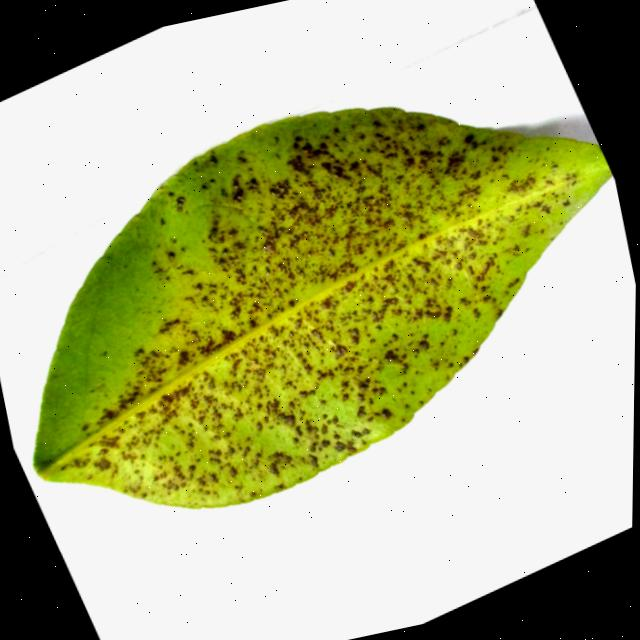melanose: (34, 108, 611, 508)
